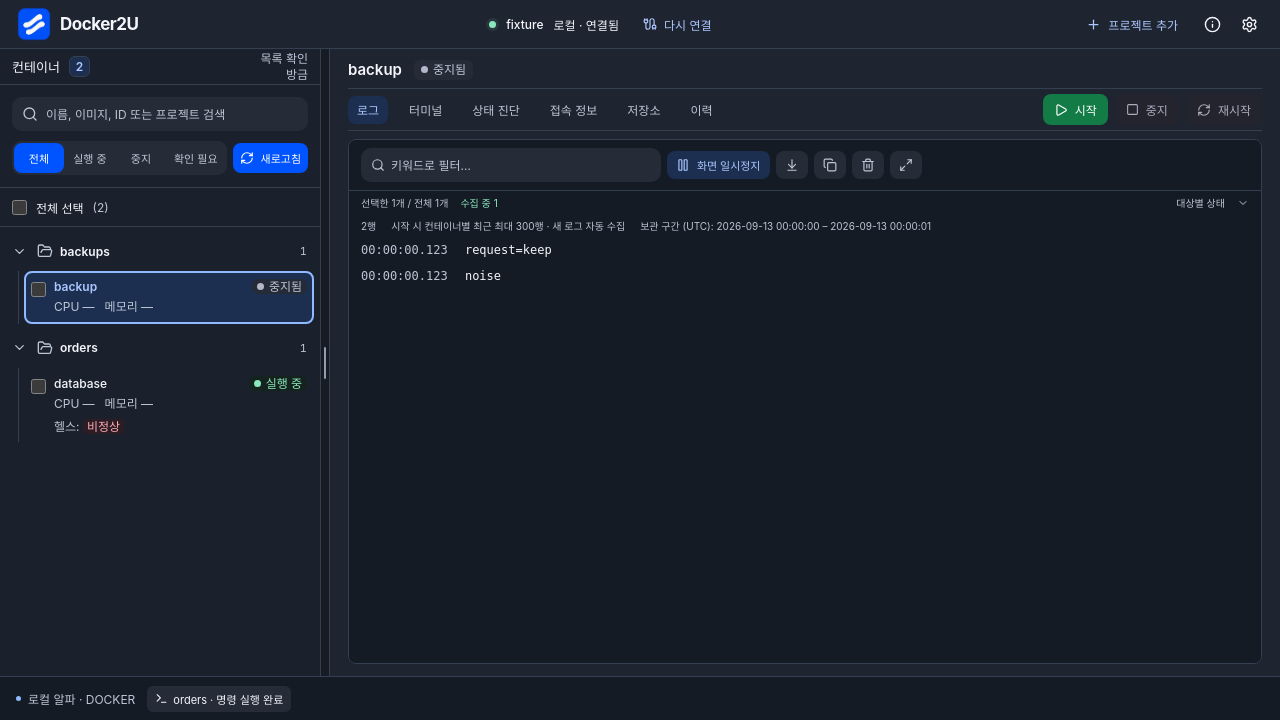
Test: navigates from Compose progress to the actual container logs tab and transfers focus
Check: the list item with aria-label "database 상세" is shown, box [24,368,314,442]
Check: the button "새로고침" is enabled, box [232,143,308,173]
Click the list item with aria-label "backup 상세" at (169, 297), box [24,271,314,324]
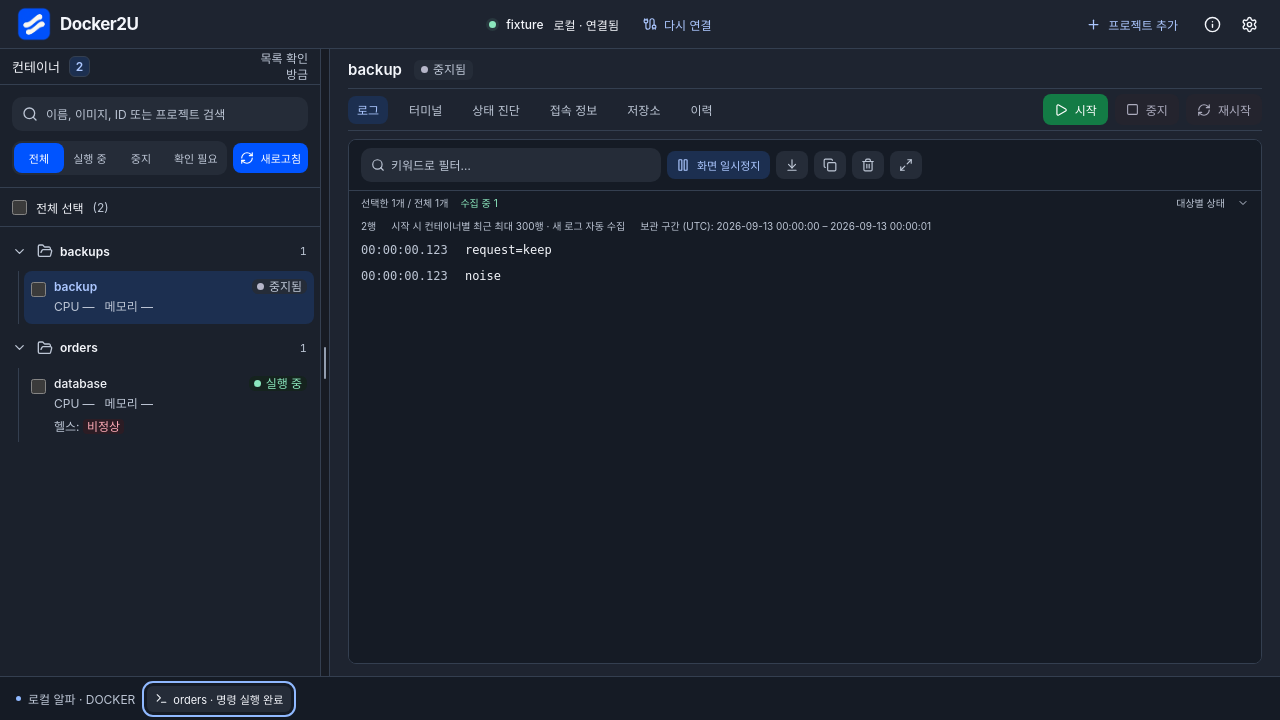
Click the button with aria-label "최근 프로젝트 작업" at (219, 698), box [147,686,291,712]
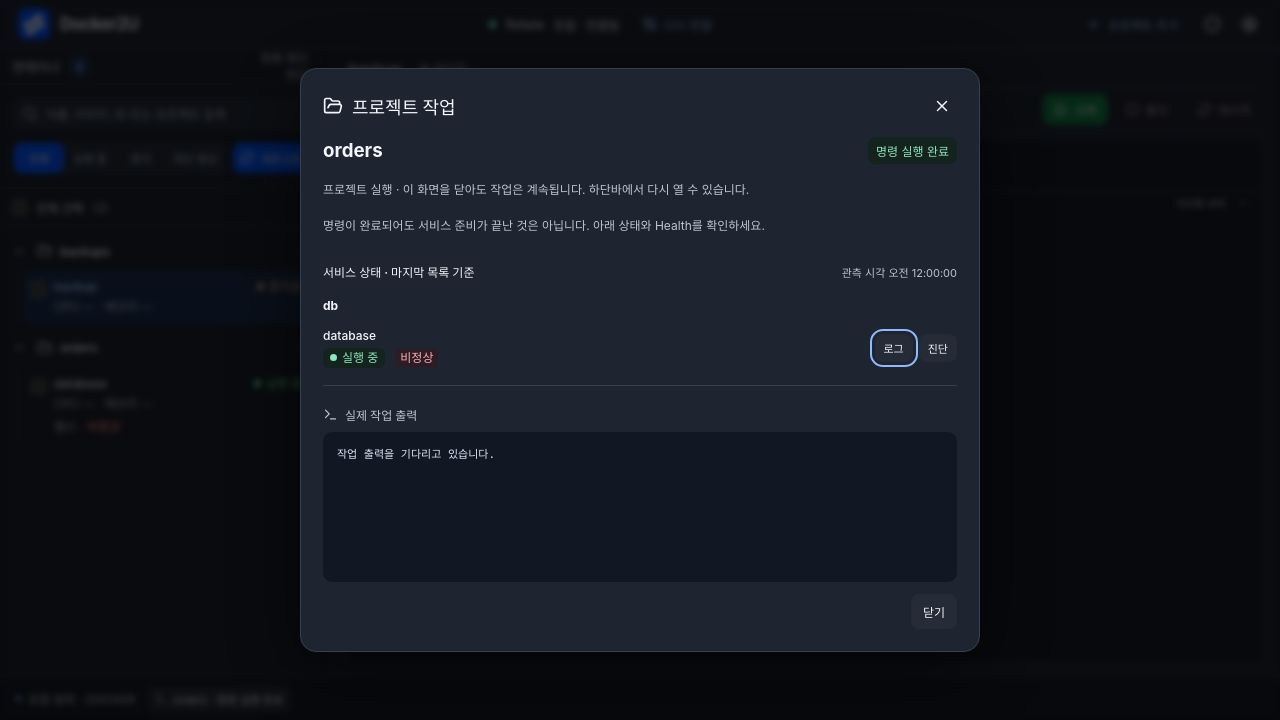
Check: the message reads "명령 실행 완료", box [876,144,949,159]
Check: the text "비정상" is shown, box [395,349,438,367]
Click the button with aria-label "database 로그 보기" at (894, 348), box [874,334,913,362]
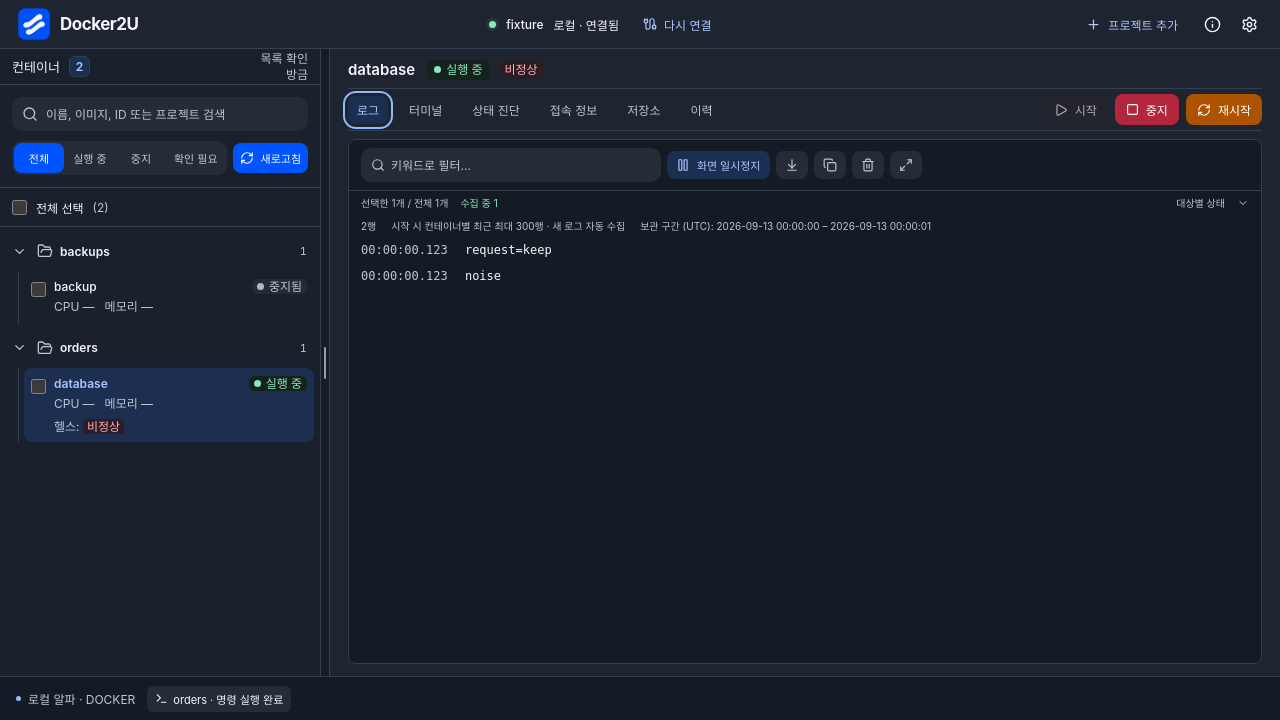
Check: the element showing "00:00:00.123 request=keep 00:00:00.123 noise" is shown, box [349,237,1261,663]
Check: the heading "프로젝트 작업" is gone
